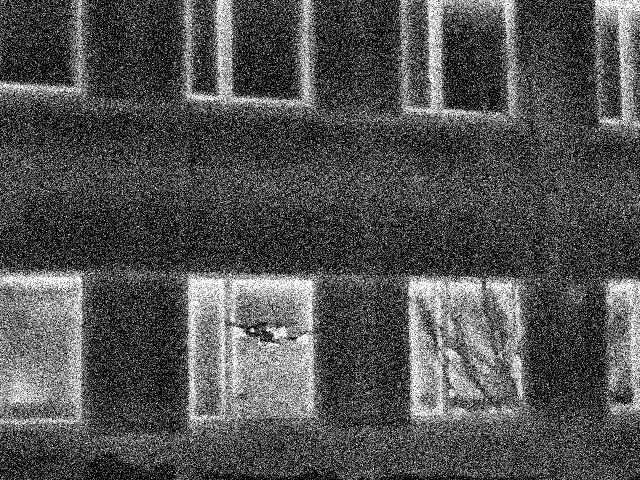boat1: (260, 61, 283, 86)
